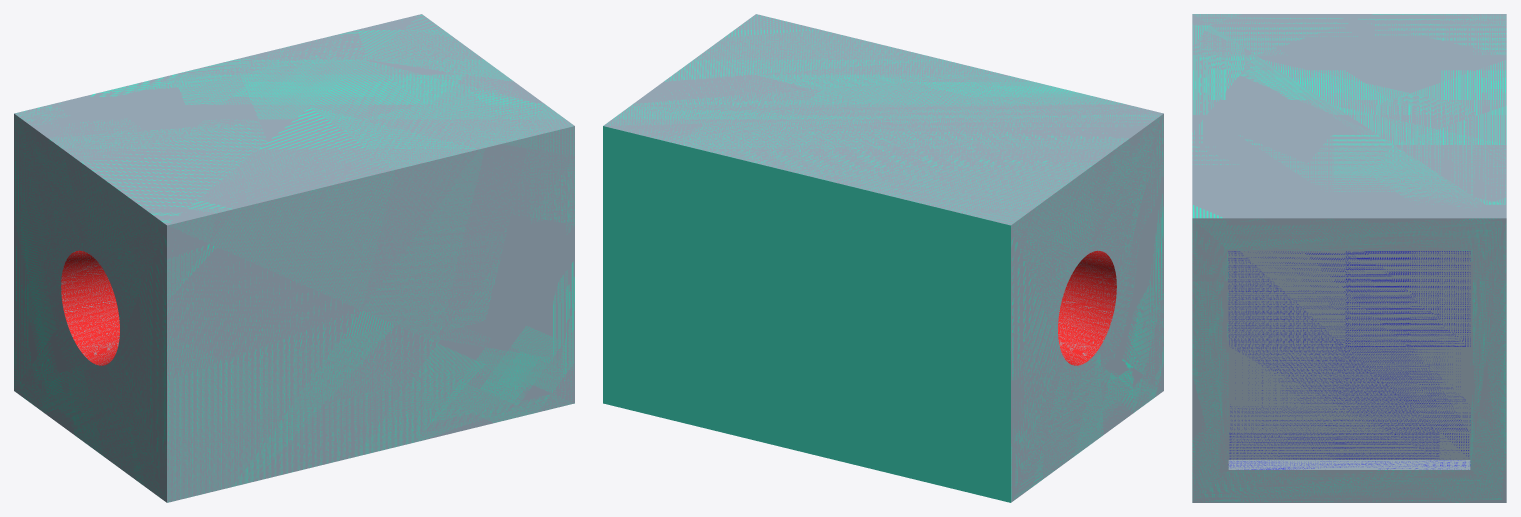
Rendered from SharpPointedElectrode.obj.
3 renders of one model, left to right at view 1: azimuth 30°, elevation 25°; view 2: azimuth 150°, elevation 25°; view 3: azimuth 270°, elevation 25°, orthographic. The views are drawn at different scales.
Parts seen in each view (by area): view 1: Mesh1 Model; view 2: Mesh1 Model; view 3: Mesh1 Model.
Part boxes in pixels (<box>): Mesh1 Model: <box>14,14,574,502</box>; Mesh1 Model: <box>603,14,1163,502</box>; Mesh1 Model: <box>1192,14,1506,502</box>.
Bounding box in the file's own units: 40 × 26 × 26.
